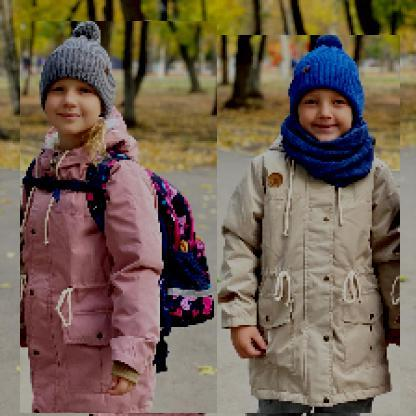child: (21, 22, 219, 415), (217, 36, 402, 415)
